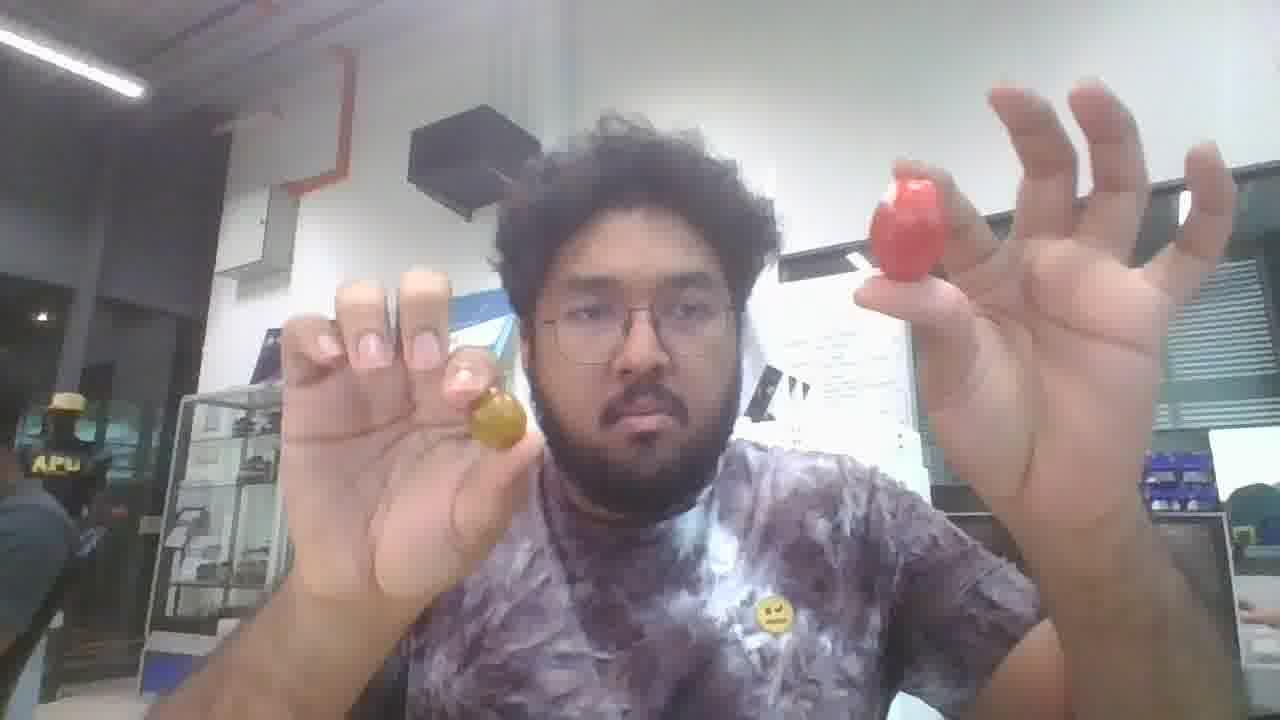red_cherry_tomato: (869, 178, 948, 281)
yellow_cherry_tomato: (469, 388, 526, 449)
